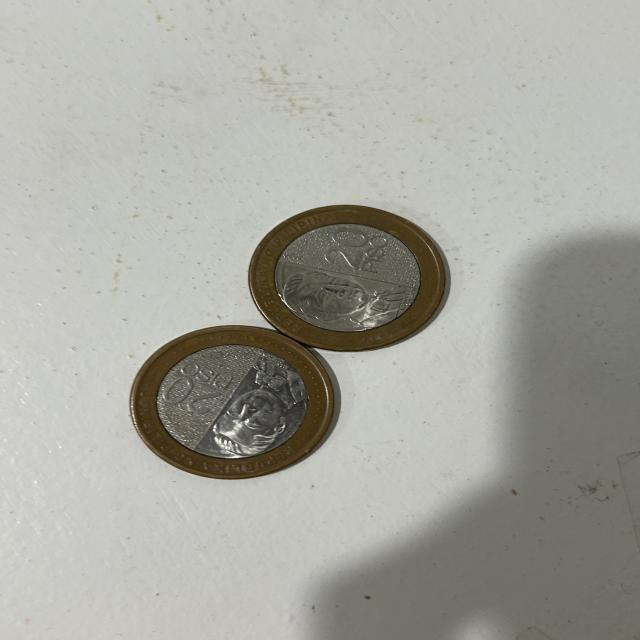20_New_Front: (164, 361, 237, 422), (322, 223, 397, 277)
